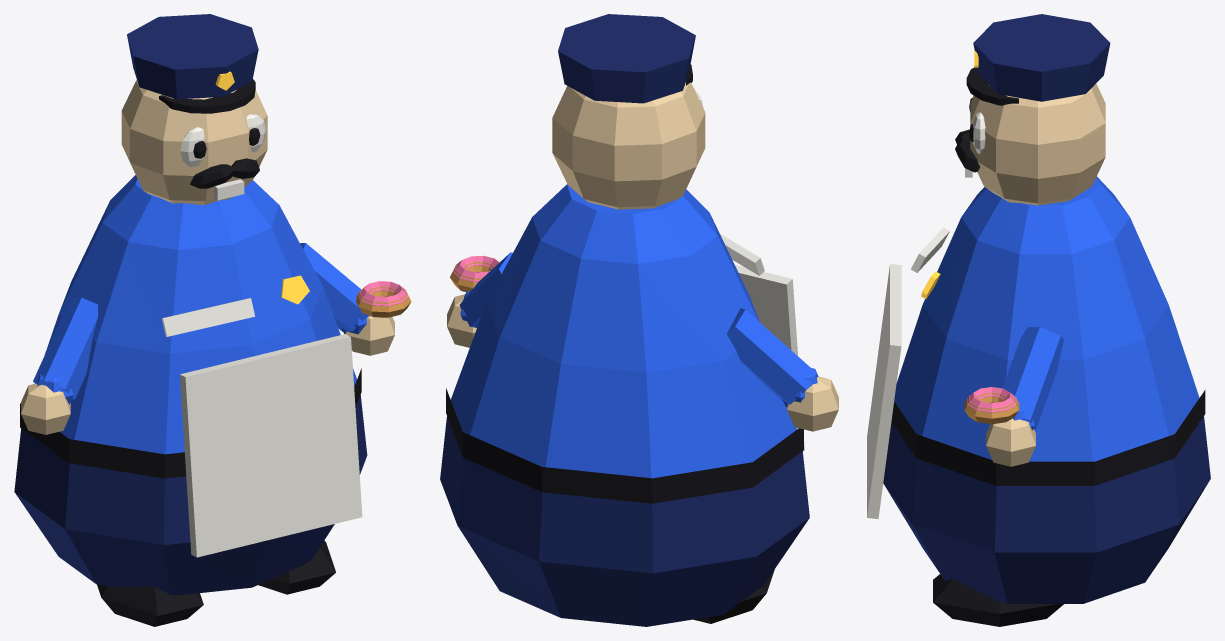
File: npc_dona_fritanga.glb
3 views of the same model, side by side, from view 1: azimuth 30°, elevation 25°; view 2: azimuth 150°, elevation 25°; view 3: azimuth 270°, elevation 25° (orthographic). The views are drawn at different scales.
Visible parts, largest first — view 1: body_shirt, body_apron_white, body_pants, head_skin_staff, cap_cap, arms_shirt, legs_black, body_black, arms_skin_staff, plate_white, face_black, cap_black (+4 smaller); view 2: body_shirt, body_pants, head_skin_staff, cap_cap, body_black, arms_shirt, body_apron_white, arms_skin_staff, legs_black, plate_white, props_donut_icing, props_donut_dough; view 3: body_shirt, body_pants, head_skin_staff, cap_cap, body_black, body_apron_white, arms_shirt, legs_black, arms_skin_staff, props_donut_dough, cap_black, props_donut_icing (+2 smaller).
Boxes of the visible parts, x1=… form: body_shirt: x1=45, y1=175, x2=356, y2=454; body_apron_white: x1=180, y1=334, x2=362, y2=557; body_pants: x1=14, y1=395, x2=367, y2=595; head_skin_staff: x1=121, y1=80, x2=267, y2=205; cap_cap: x1=127, y1=14, x2=258, y2=99; arms_shirt: x1=33, y1=243, x2=369, y2=404; legs_black: x1=97, y1=540, x2=335, y2=626; body_black: x1=20, y1=368, x2=361, y2=478; arms_skin_staff: x1=21, y1=316, x2=394, y2=434; plate_white: x1=161, y1=298, x2=254, y2=336; face_black: x1=190, y1=128, x2=260, y2=188; cap_black: x1=159, y1=79, x2=255, y2=113; body_shirt: x1=451, y1=184, x2=796, y2=478; body_pants: x1=440, y1=416, x2=809, y2=626; head_skin_staff: x1=552, y1=82, x2=705, y2=209; cap_cap: x1=558, y1=14, x2=695, y2=103; body_black: x1=446, y1=388, x2=803, y2=503; arms_shirt: x1=459, y1=252, x2=818, y2=406; body_apron_white: x1=735, y1=265, x2=804, y2=451; arms_skin_staff: x1=447, y1=294, x2=838, y2=431; legs_black: x1=693, y1=569, x2=774, y2=623; plate_white: x1=720, y1=234, x2=764, y2=275; props_donut_icing: x1=452, y1=255, x2=499, y2=281; props_donut_dough: x1=450, y1=261, x2=499, y2=291; body_shirt: x1=894, y1=176, x2=1199, y2=461; body_pants: x1=883, y1=416, x2=1210, y2=603; head_skin_staff: x1=970, y1=83, x2=1105, y2=205; cap_cap: x1=973, y1=14, x2=1110, y2=101; body_black: x1=891, y1=390, x2=1205, y2=485; body_apron_white: x1=867, y1=264, x2=901, y2=519; arms_shirt: x1=1002, y1=327, x2=1063, y2=430; legs_black: x1=933, y1=574, x2=1063, y2=626; arms_skin_staff: x1=986, y1=418, x2=1035, y2=466; props_donut_dough: x1=964, y1=392, x2=1019, y2=424; cap_black: x1=966, y1=67, x2=1018, y2=105; props_donut_icing: x1=967, y1=387, x2=1016, y2=412.
Size of the model in its own units: 1.14 by 1.56 by 0.8948.
